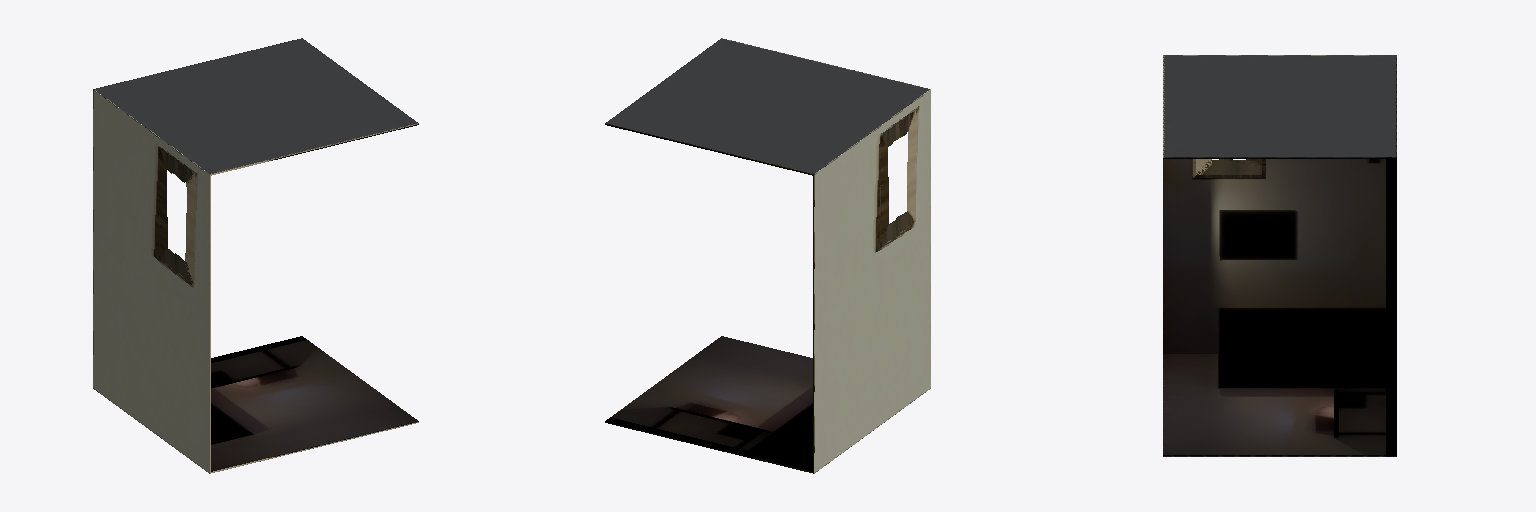
3 views of the same model, side by side, from view 1: azimuth 30°, elevation 25°; view 2: azimuth 150°, elevation 25°; view 3: azimuth 270°, elevation 25° (orthographic).
Size of the model in its own units: 4.09 by 5.59 by 3.95.
Materials: 1 (1 with a texture image).